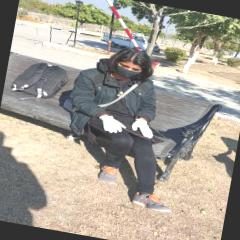gloved: (98, 114, 128, 136), (131, 118, 156, 139)
